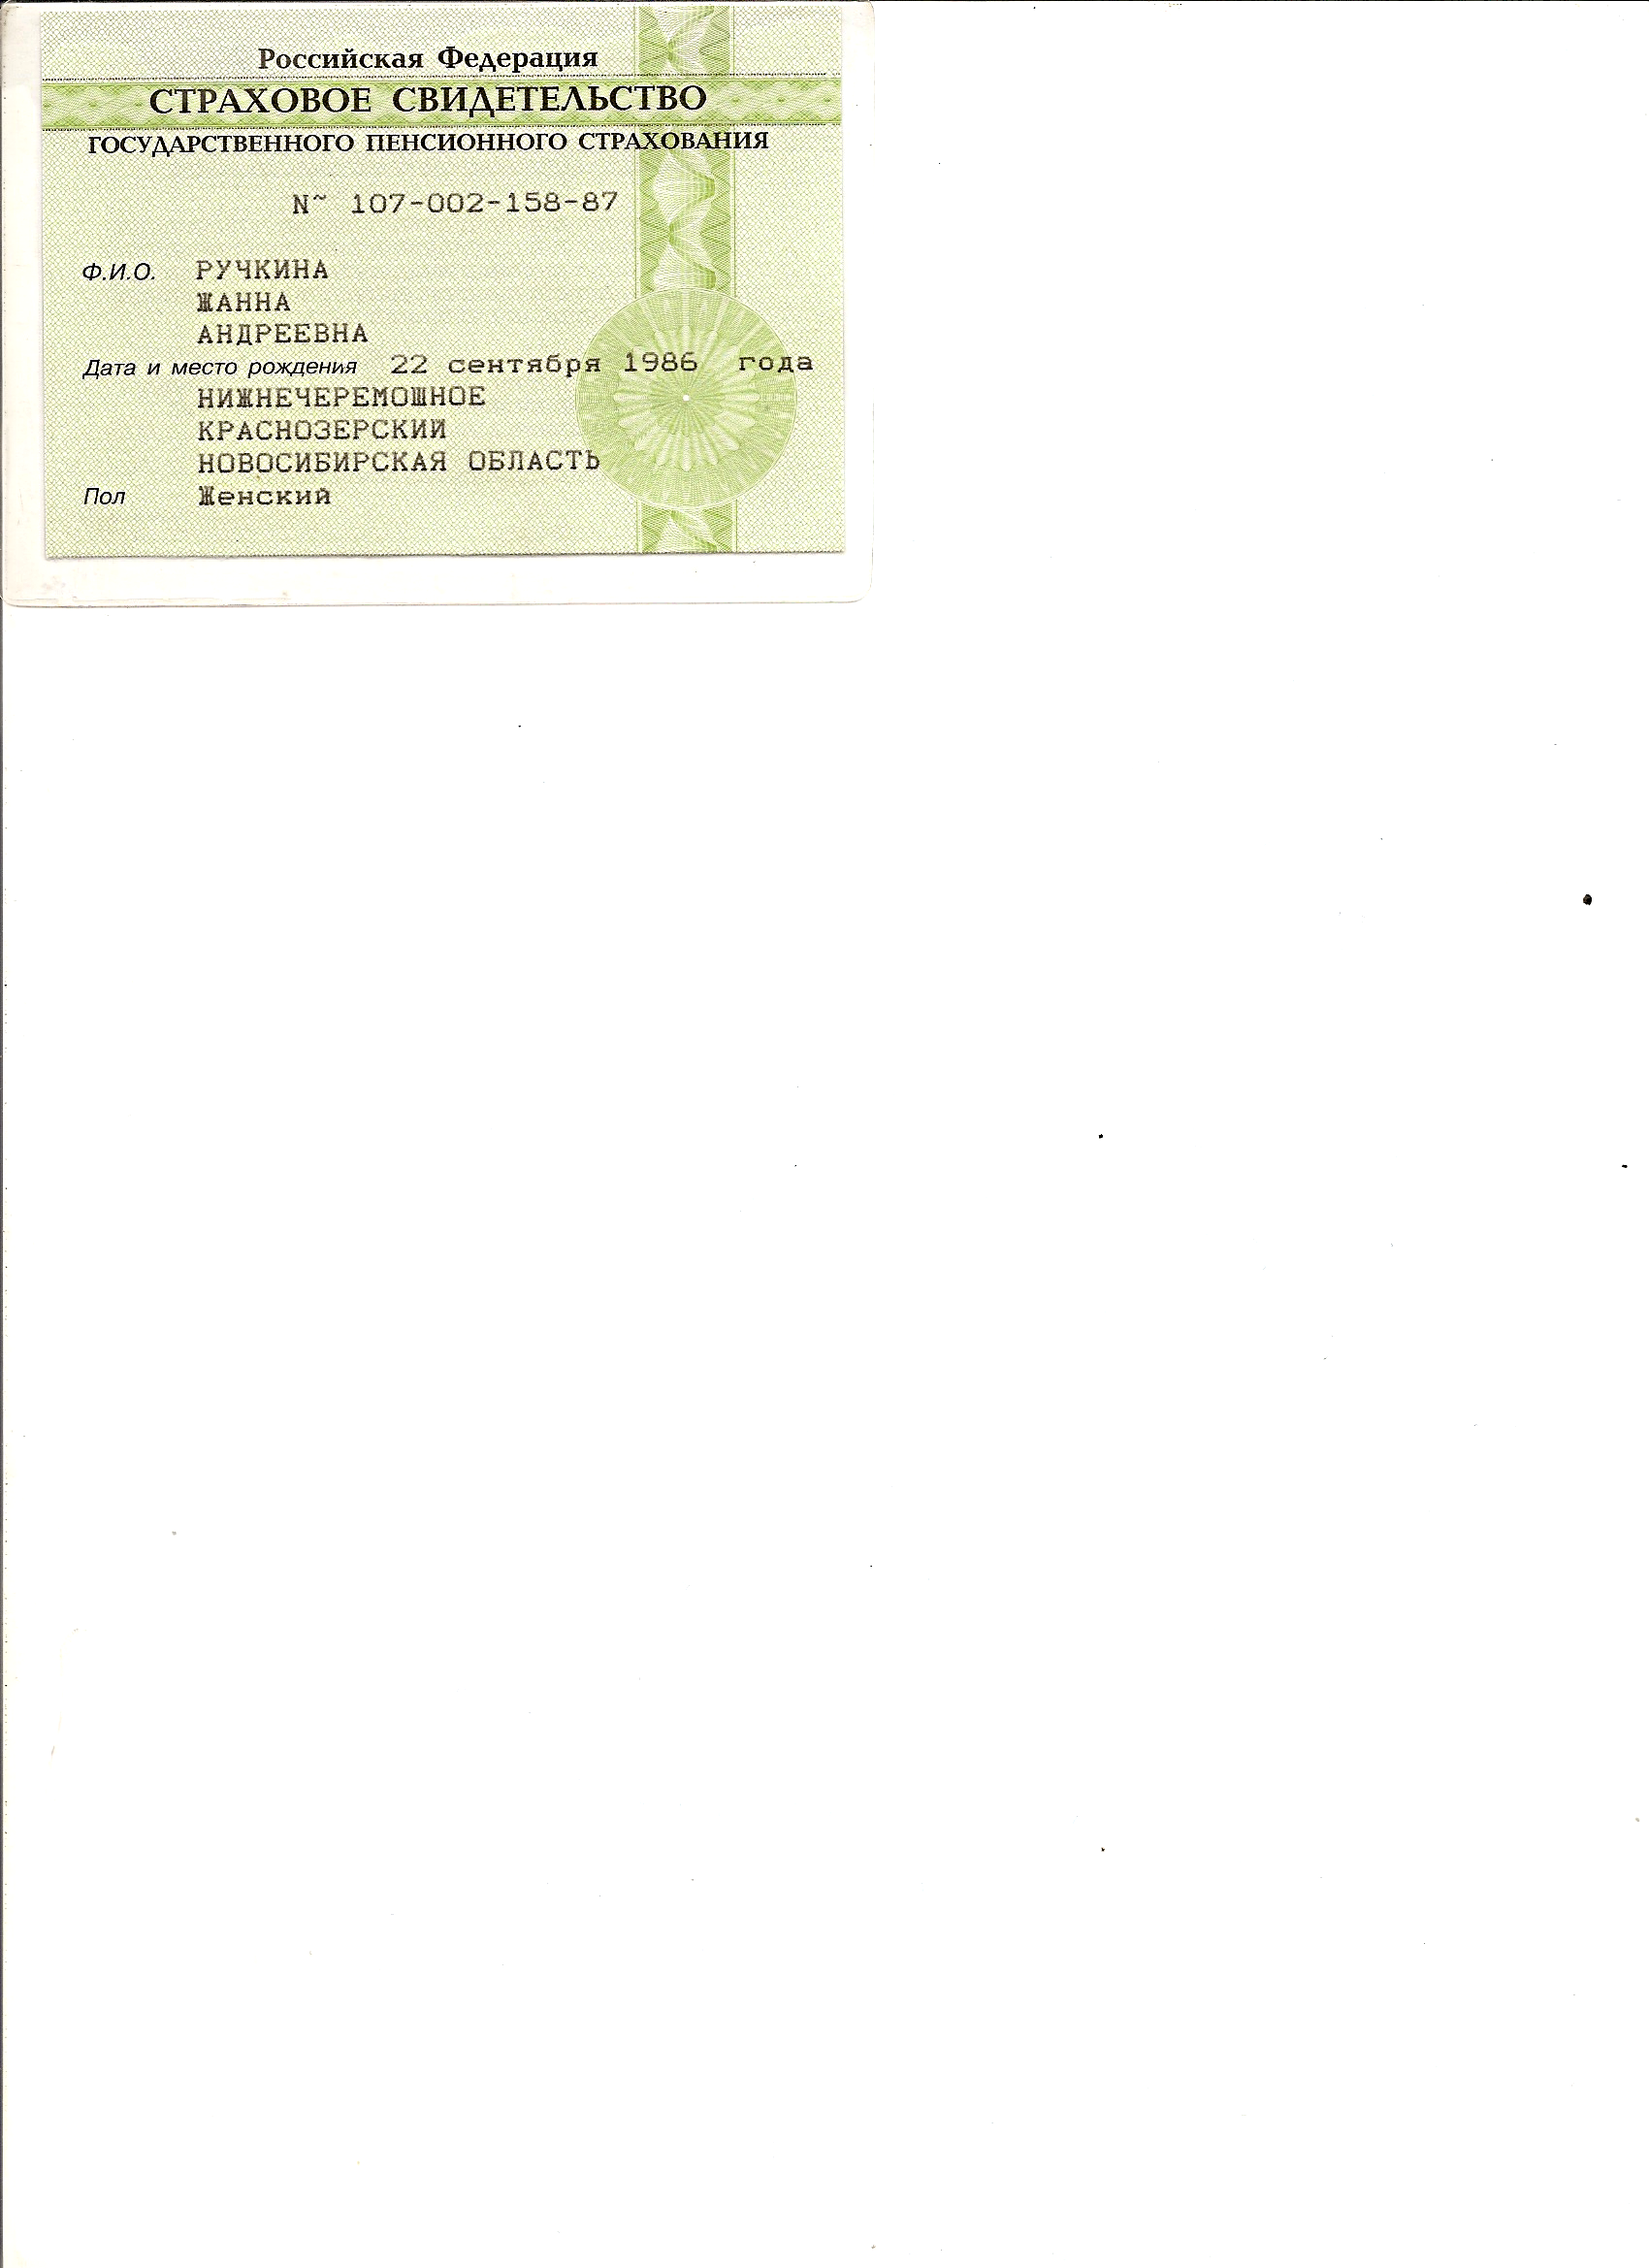text: (192, 384, 611, 475), (384, 350, 818, 380), (338, 187, 628, 218), (187, 479, 340, 511), (192, 320, 368, 347), (192, 255, 329, 283), (192, 287, 297, 317)
